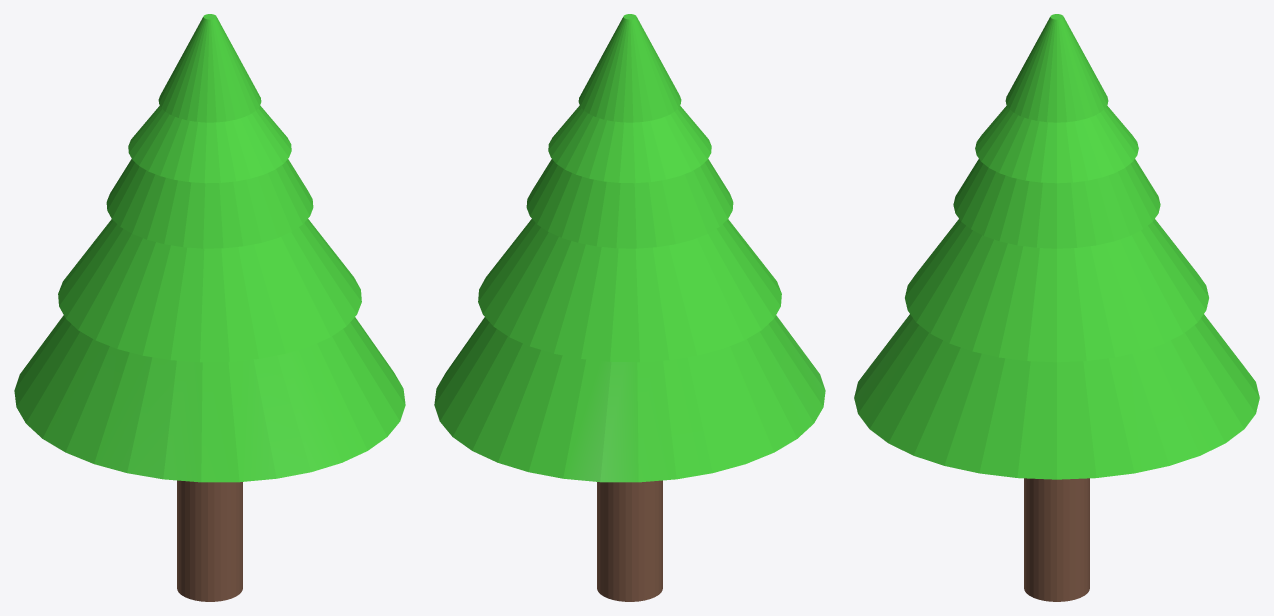
Rendered from Conifera222.fbx.
3 views of the same model, side by side, from view 1: azimuth 30°, elevation 25°; view 2: azimuth 150°, elevation 25°; view 3: azimuth 270°, elevation 25° (orthographic).
Parts seen in each view (by area): view 1: Cilindro; view 2: Cilindro; view 3: Cilindro.
Boxes of the visible parts, box(x1,y1,x2,y2) form: Cilindro: box(14, 14, 405, 601); Cilindro: box(434, 14, 825, 601); Cilindro: box(854, 14, 1259, 601).
Size of the model in its own units: 1170 by 1907 by 1228.
